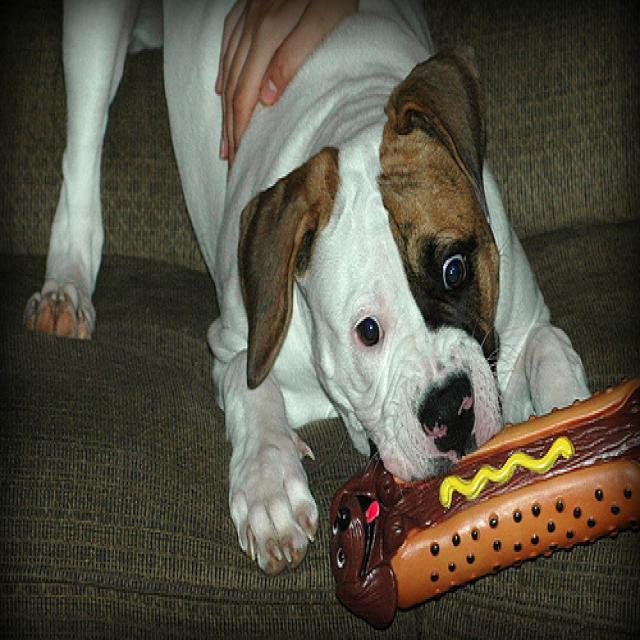dog-american_bulldog: (15, 2, 595, 583)
